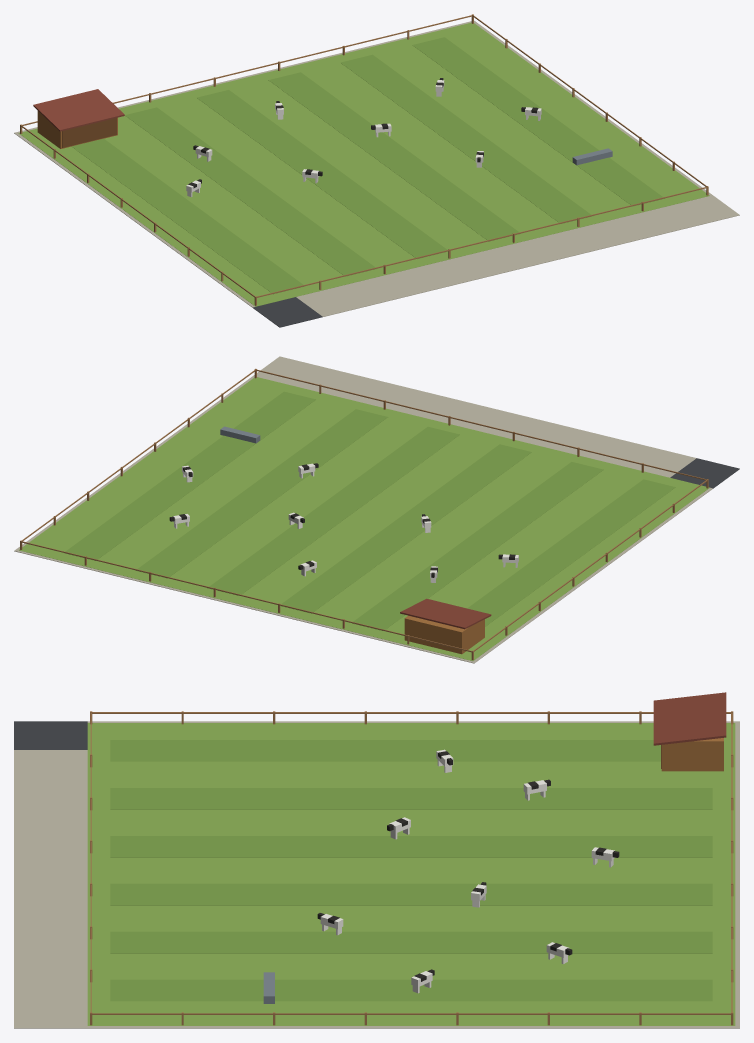
Rendered from site_pasture.glb.
The picture shows the model from 3 angles, top to bottom: view 1: azimuth 30°, elevation 25°; view 2: azimuth 150°, elevation 25°; view 3: azimuth 270°, elevation 25°; orthographic projection. The views are drawn at different scales.
Parts seen in each view (by area): view 1: site_pasture; view 2: site_pasture; view 3: site_pasture.
Part boxes in pixels (x1,y1,x2,y2): site_pasture: (14, 14, 739, 327); site_pasture: (14, 356, 739, 663); site_pasture: (14, 692, 739, 1028).
Bounding box in the file's own units: 64 × 3.8 × 64.
